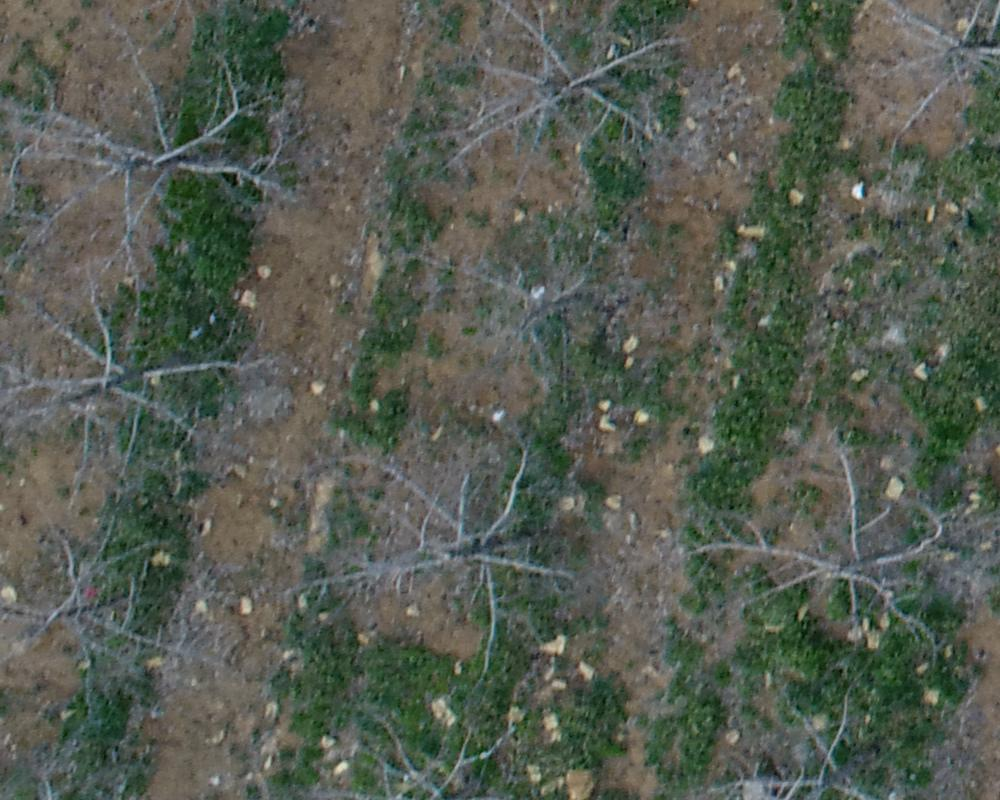apple: (287, 436, 611, 682), (650, 423, 965, 656), (15, 47, 296, 275), (430, 10, 709, 203), (11, 299, 280, 493), (10, 523, 217, 725), (407, 210, 646, 364), (293, 675, 591, 790), (646, 684, 907, 790)
